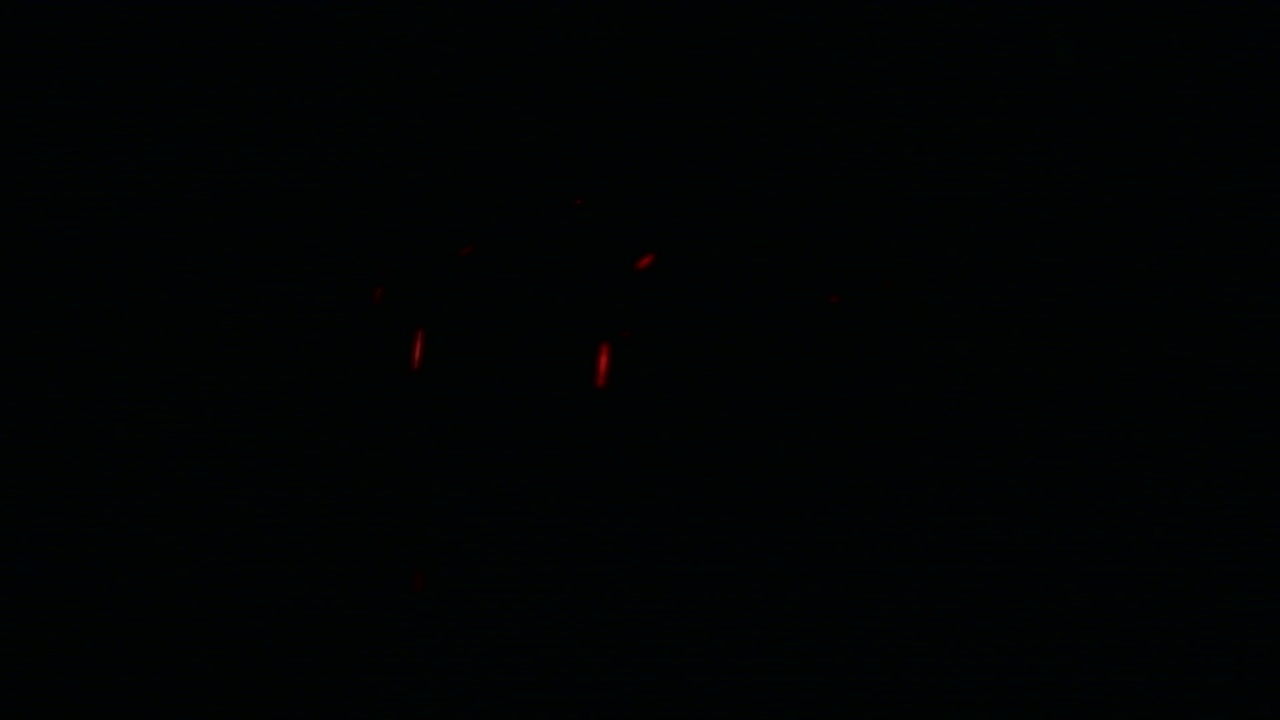lamp: (410, 326, 422, 394), (599, 327, 610, 390)
pair2: (409, 328, 612, 393)
